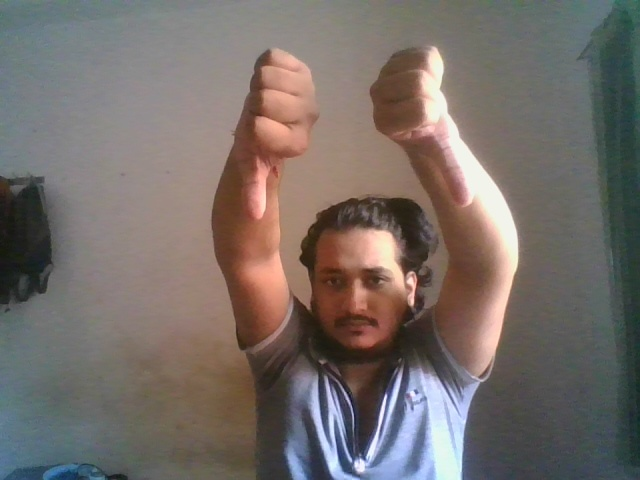ThumbsDown: (370, 44, 478, 210), (233, 47, 318, 222)
